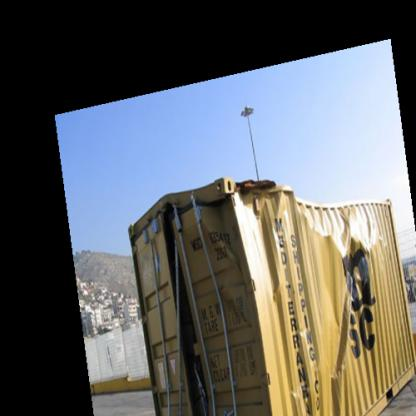Damage: (149, 207, 237, 408), (329, 209, 378, 412)
